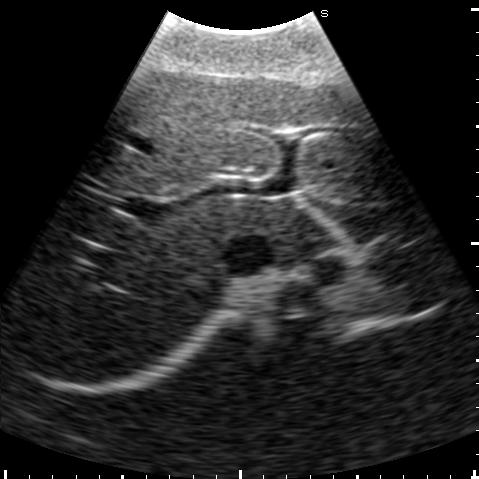IVC: (223, 234, 273, 278)
S1: (244, 199, 326, 250)
S2: (305, 195, 428, 244)
S3: (279, 85, 415, 200)
S4: (97, 72, 303, 194)
